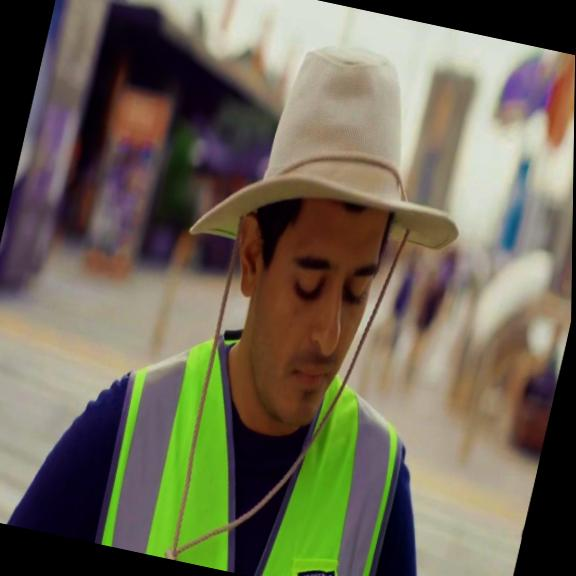safety_vest: (87, 308, 428, 576)
